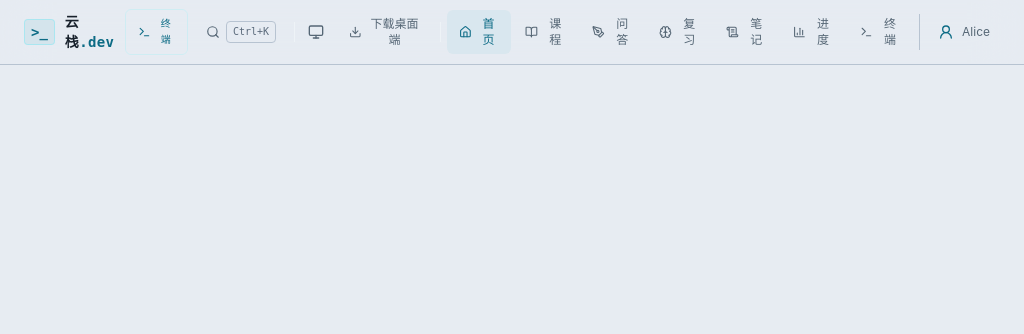
Test: AppHeader account menu light theme › mounts the real AppHeader and opens the account menu with visible items
This screenshot has width=1024, height=334.
Click the button "Alice".
click(964, 32)  # box left=928, top=14, right=1000, bottom=50
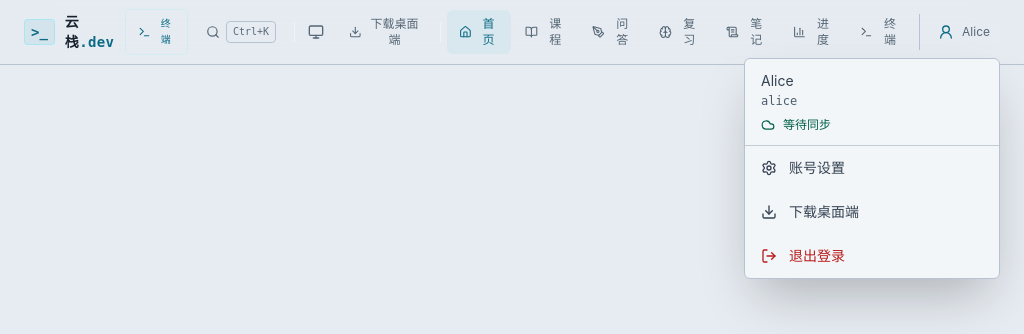
Now the text "账号设置" is shown, box left=745, top=146, right=999, bottom=190
Now the text "退出登录" is shown, box left=745, top=234, right=999, bottom=278
